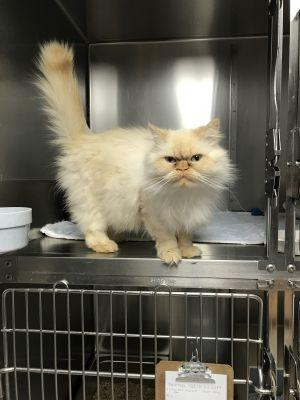persian: (136, 113, 237, 208)
